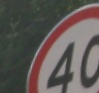Speed limit: (21, 2, 98, 92)
